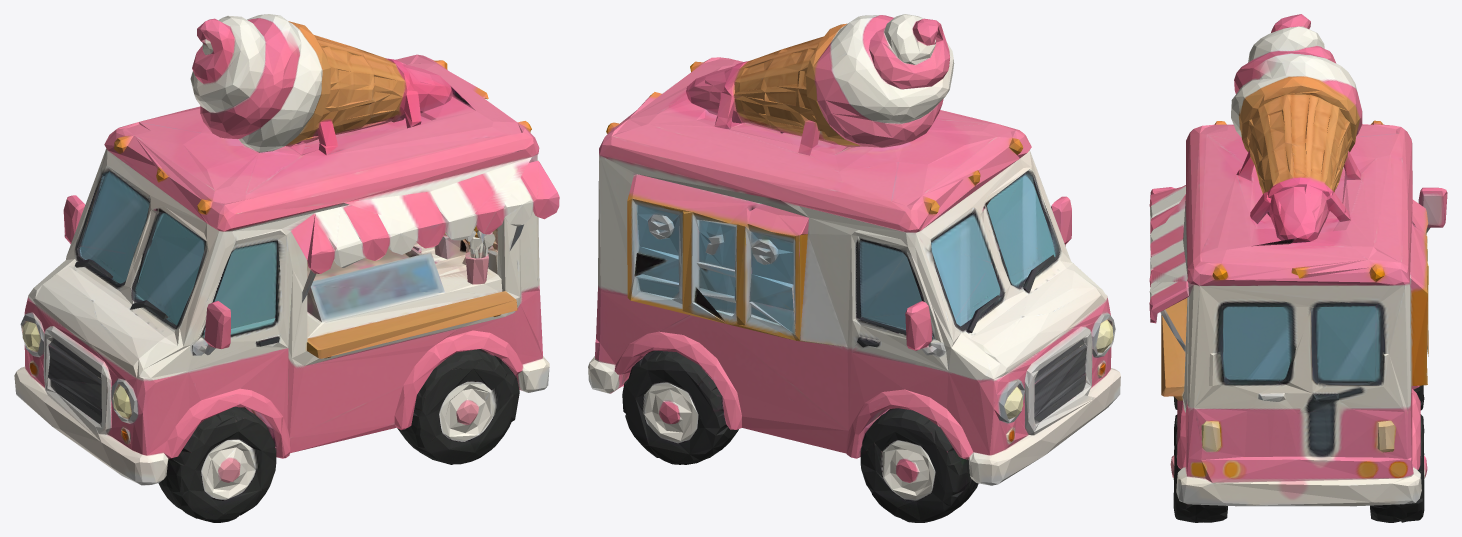
The model's file is ice_cream.glb.
3 renders of one model, left to right at view 1: azimuth 30°, elevation 25°; view 2: azimuth 150°, elevation 25°; view 3: azimuth 270°, elevation 25°, orthographic. The views are drawn at different scales.
Visible parts, largest first — view 1: geometry_0; view 2: geometry_0; view 3: geometry_0.
Part boxes in pixels (<box>): geometry_0: <box>14,14,559,522</box>; geometry_0: <box>588,14,1120,522</box>; geometry_0: <box>1149,14,1447,522</box>.
Bounding box in the file's own units: 1.89 × 1.9 × 1.23.
1 material, 1 textured.
